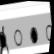correct: (27, 23, 40, 46)
no answer: (11, 26, 25, 47), (42, 22, 52, 42)
not correct: (0, 21, 13, 54)
